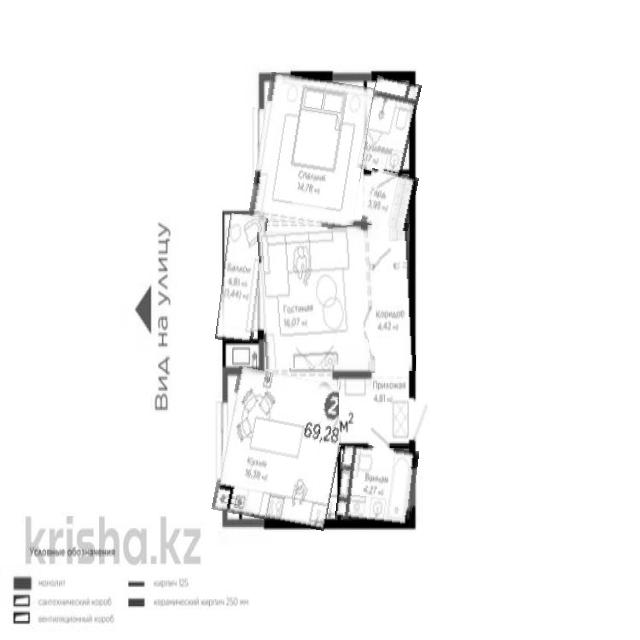balcony: (219, 214, 265, 343)
bathroom: (337, 444, 417, 525), (361, 77, 417, 176)
hallway: (365, 223, 415, 373), (339, 374, 414, 446)
kitchen: (218, 371, 345, 527)
living_room: (254, 76, 369, 229), (260, 226, 368, 368)
other: (364, 170, 416, 229)
